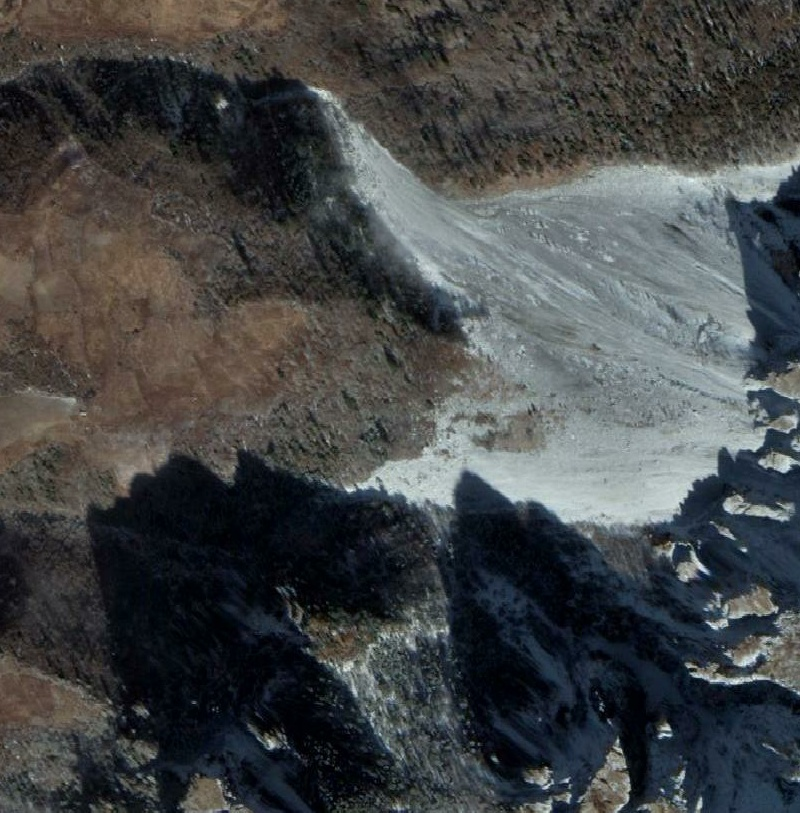slope: (311, 82, 799, 518)
